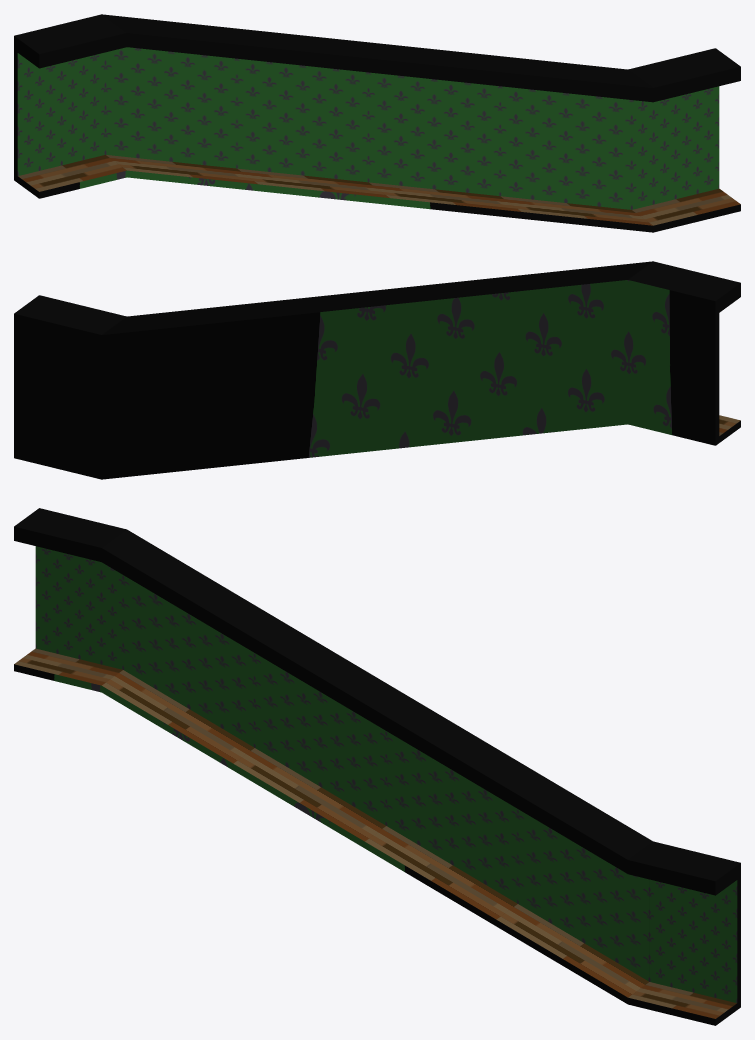
File: SM_StairsDown.fbx
3 renders of one model, top to bottom at view 1: azimuth 30°, elevation 25°; view 2: azimuth 150°, elevation 25°; view 3: azimuth 330°, elevation 25°, orthographic.
Parts seen in each view (by area): view 1: SM_StairsDown; view 2: SM_StairsDown; view 3: SM_StairsDown.
Part boxes in pixels (box(x1,y1,x2,y2)): SM_StairsDown: box(14, 14, 740, 232); SM_StairsDown: box(14, 261, 740, 479); SM_StairsDown: box(14, 508, 740, 1025).
Bounding box in the file's own units: 1600 × 715 × 100.
